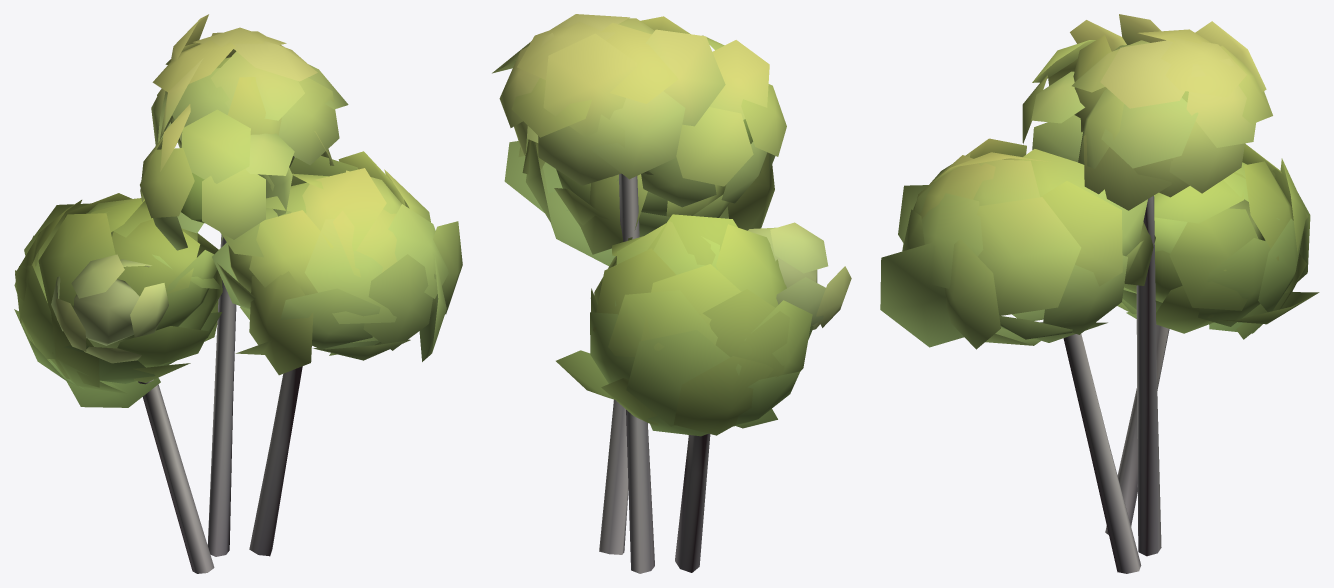
Rendered from veg_wild_birch.glb.
3 views of the same model, side by side, from view 1: azimuth 30°, elevation 25°; view 2: azimuth 150°, elevation 25°; view 3: azimuth 270°, elevation 25° (orthographic). The views are drawn at different scales.
Parts seen in each view (by area): view 1: SM_scatter_veg_leaf_clip_x0_z0_raw.006; view 2: SM_scatter_veg_leaf_clip_x0_z0_raw.006; view 3: SM_scatter_veg_leaf_clip_x0_z0_raw.006.
Part boxes in pixels (box(x1,y1,x2,y2)): SM_scatter_veg_leaf_clip_x0_z0_raw.006: box(14, 14, 462, 573); SM_scatter_veg_leaf_clip_x0_z0_raw.006: box(492, 14, 851, 573); SM_scatter_veg_leaf_clip_x0_z0_raw.006: box(880, 14, 1319, 573).
Size of the model in its own units: 2.75 by 3.86 by 2.85.
